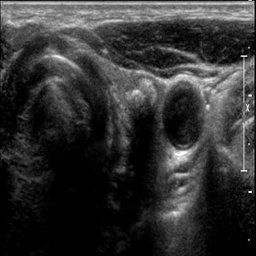mass: (124, 73, 159, 132)
